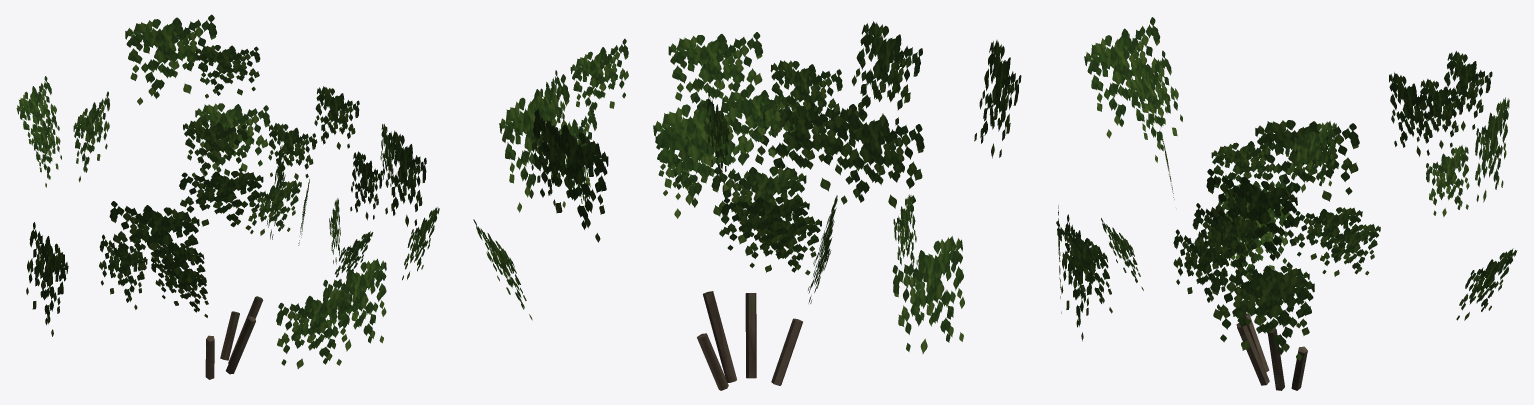
The model's file is Bush_2.fbx.
The picture shows the model from 3 angles, left to right: view 1: azimuth 30°, elevation 25°; view 2: azimuth 150°, elevation 25°; view 3: azimuth 270°, elevation 25°; orthographic projection. The views are drawn at different scales.
Parts seen in each view (by area): view 1: Bush_2; view 2: Bush_2; view 3: Bush_2.
Part boxes in pixels (box(x1,y1,x2,y2)): Bush_2: box(16, 14, 439, 379); Bush_2: box(473, 21, 1021, 390); Bush_2: box(1056, 17, 1517, 390).
Size of the model in its own units: 2.43 by 1.74 by 2.47.
